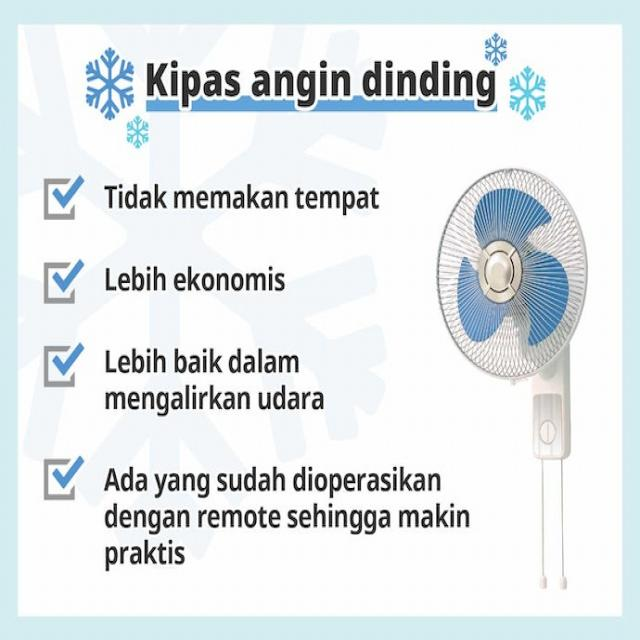fan: (422, 157, 599, 604)
